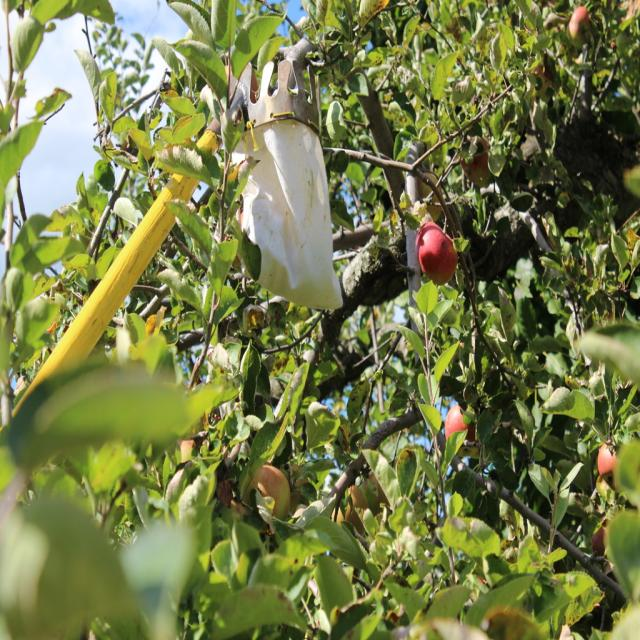Healty Apple: (234, 464, 294, 531), (412, 223, 456, 289), (461, 135, 491, 187), (442, 400, 474, 447), (416, 172, 445, 218), (566, 6, 594, 50), (528, 65, 552, 101), (598, 440, 620, 478), (177, 439, 200, 466), (591, 520, 608, 556)
